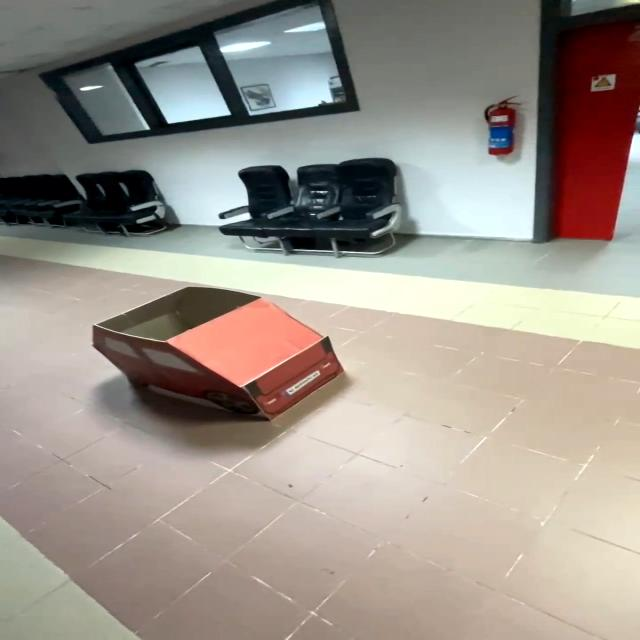red_car: (54, 266, 390, 451)
